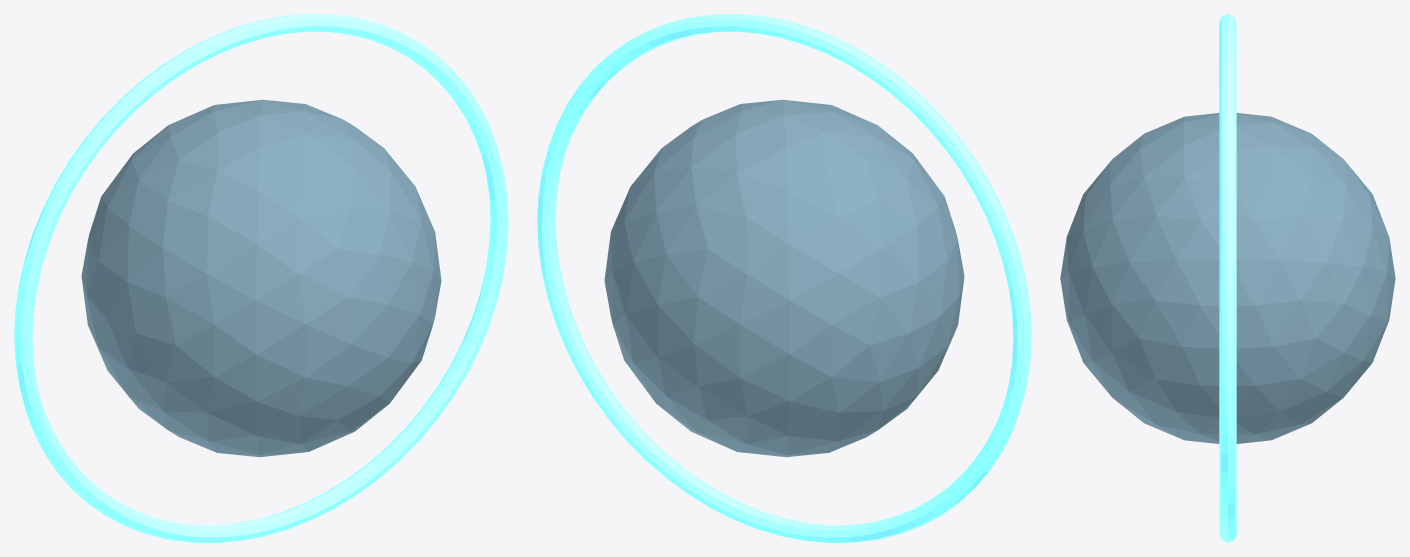
File: hexad-drone.glb
3 renders of one model, left to right at view 1: azimuth 30°, elevation 25°; view 2: azimuth 150°, elevation 25°; view 3: azimuth 270°, elevation 25°, orthographic. The views are drawn at different scales.
Visible parts, largest first — view 1: Core_Body, Energy_Ring; view 2: Core_Body, Energy_Ring; view 3: Core_Body, Energy_Ring.
Part boxes in pixels (x1,y1,x2,y2): Core_Body: (81,99,441,457); Energy_Ring: (14,14,508,542); Core_Body: (604,99,964,457); Energy_Ring: (537,14,1031,542); Core_Body: (1060,113,1395,443); Energy_Ring: (1219,14,1236,542).
Size of the model in its own units: 1.2 by 1.2 by 0.76.
